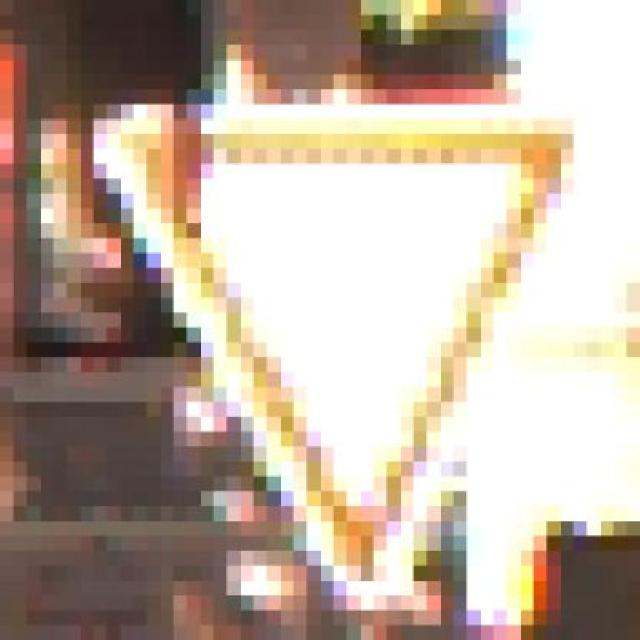Give Way: (107, 74, 587, 611)
